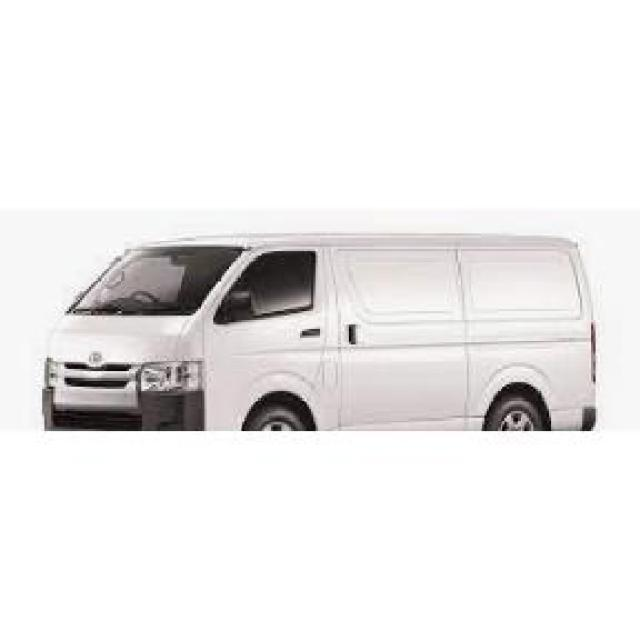Van: (44, 227, 600, 430)
